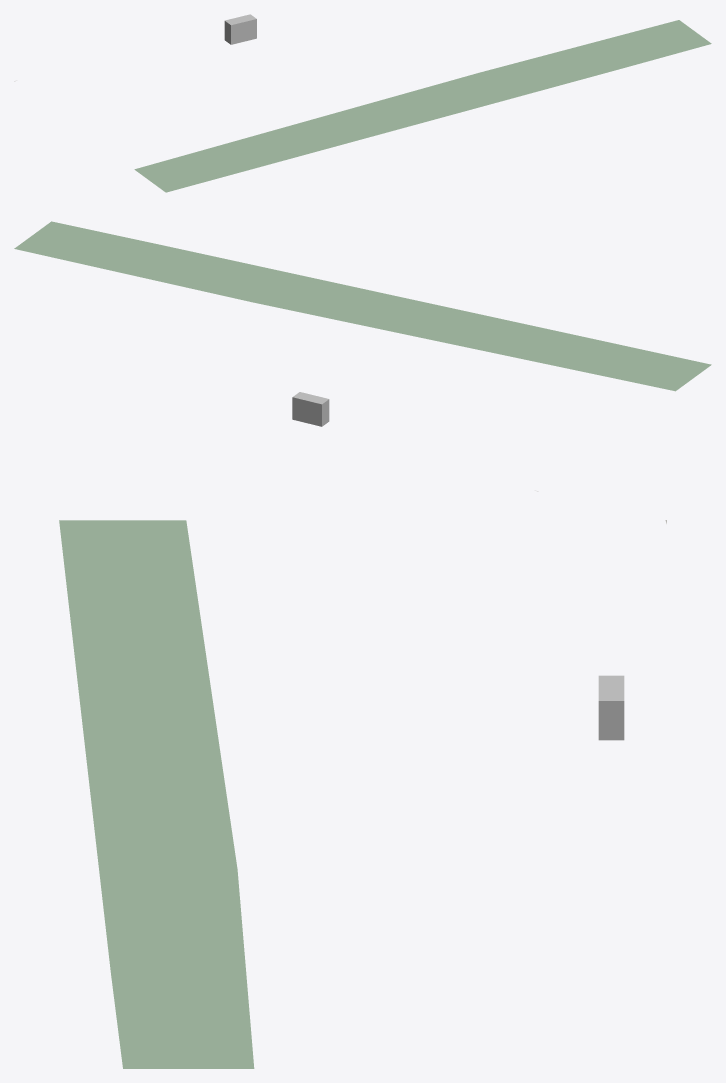
The model's file is 125_114_mid.glb.
3 views of the same model, one above another, from view 1: azimuth 30°, elevation 25°; view 2: azimuth 150°, elevation 25°; view 3: azimuth 270°, elevation 25° (orthographic). The views are drawn at different scales.
Bounding box in the file's own units: 500 × 16.92 × 234.
